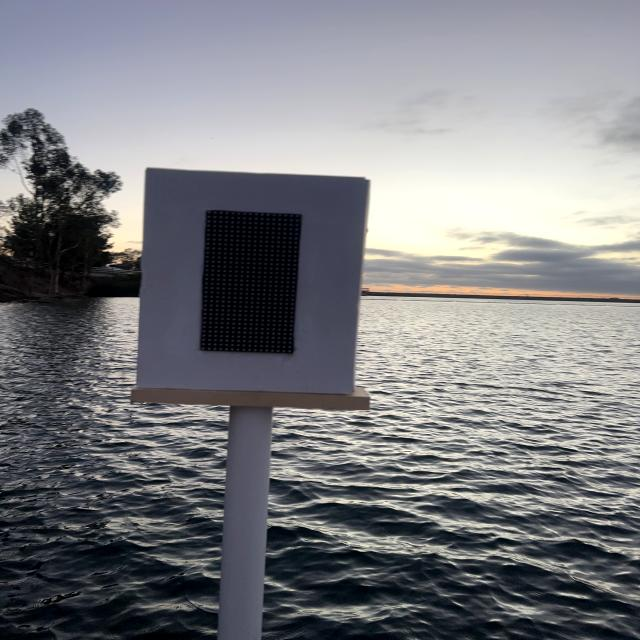led: (164, 184, 347, 386)
